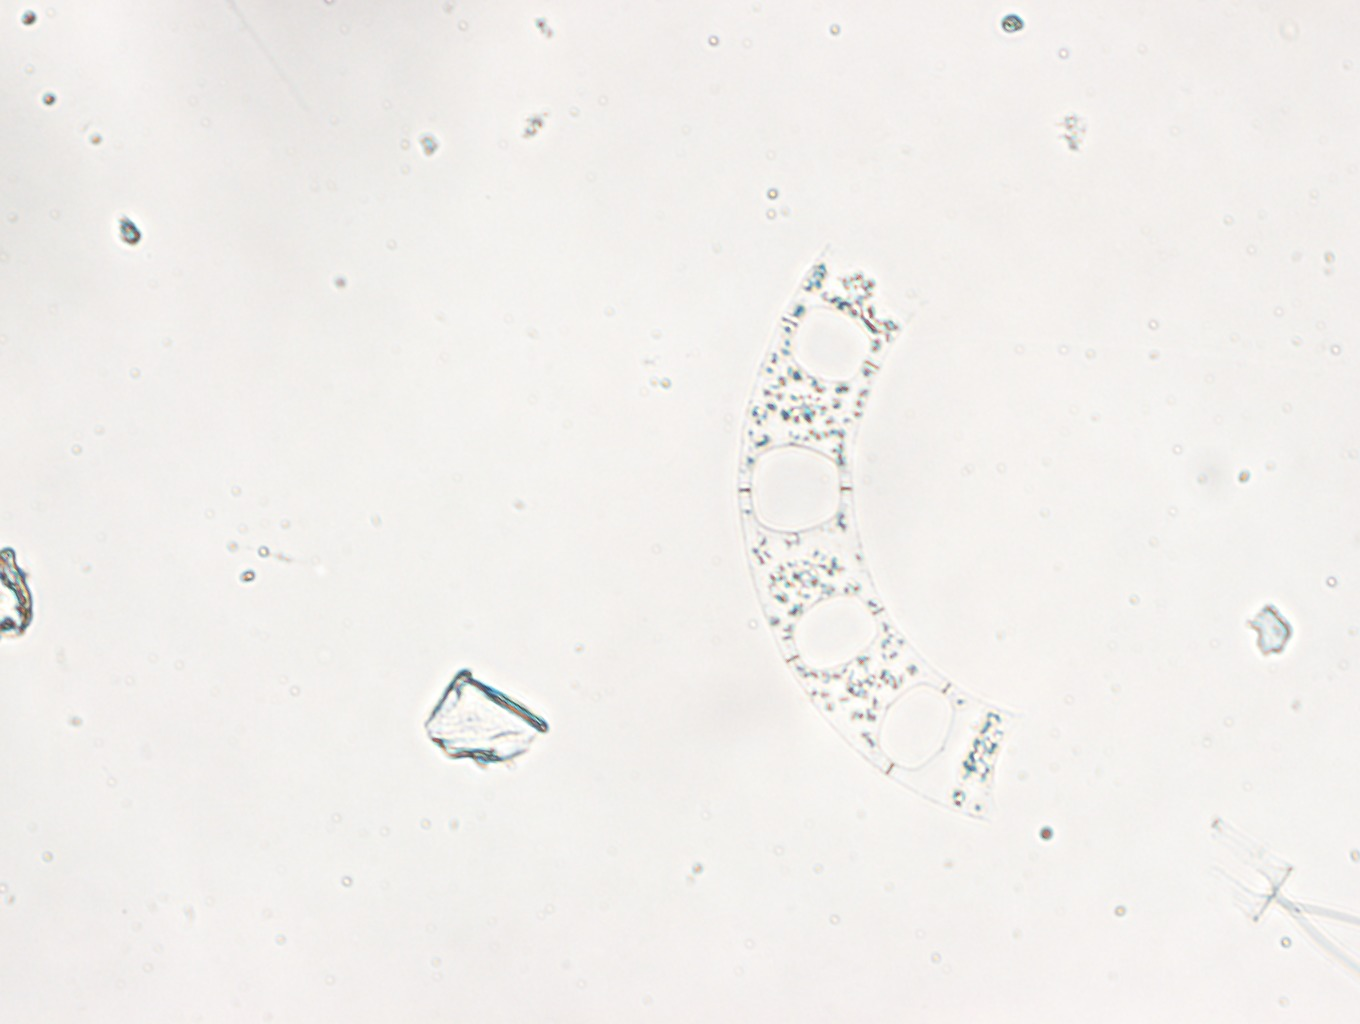eucampia: (735, 247, 1023, 820)
